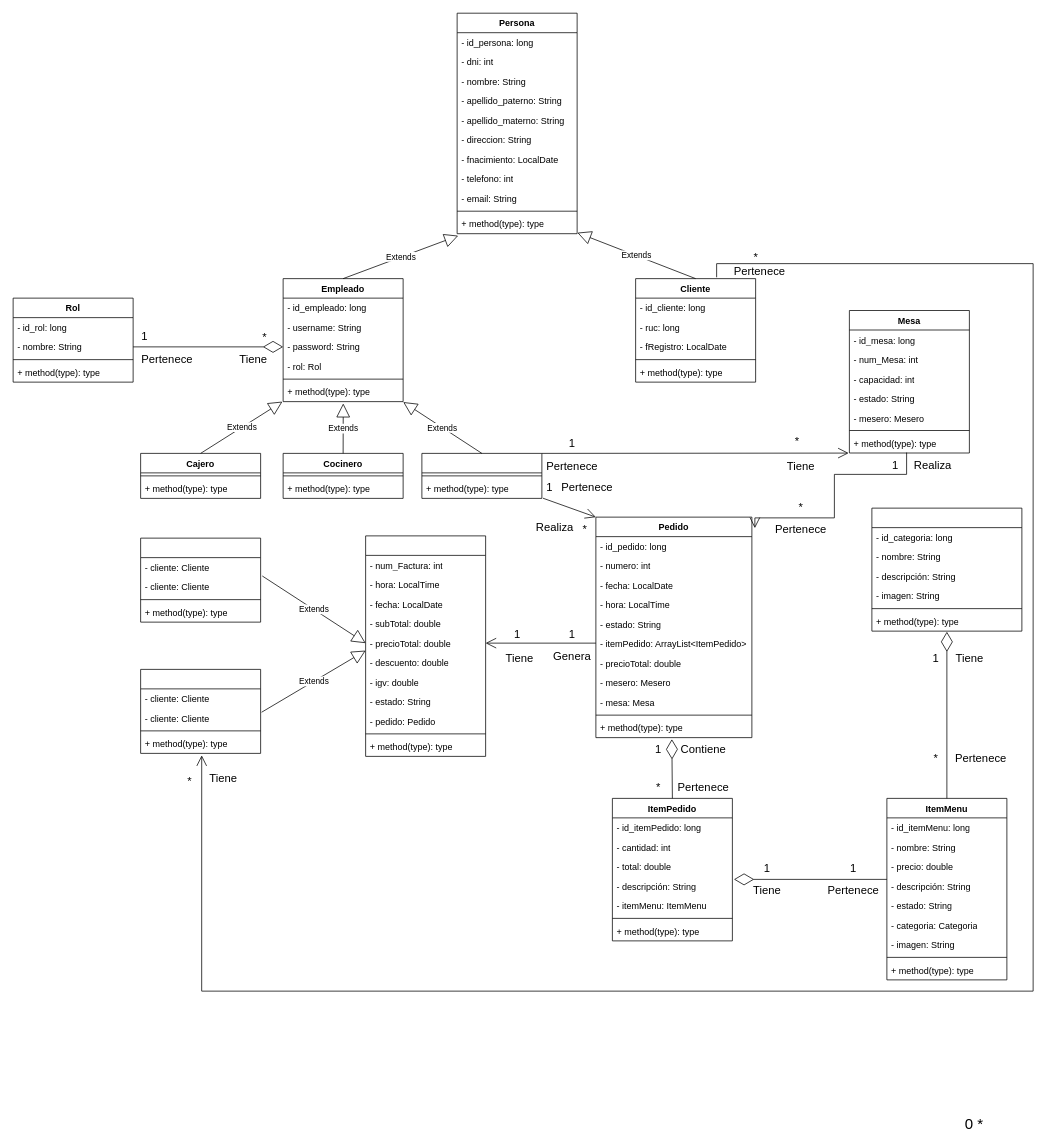
Image size: 1057x1145. Some labels were removed from this diagram. Each missing label, with the box of its shape:
Boleta: (140, 537, 261, 622)
Categoría: (871, 507, 1022, 631)
Cuenta: (365, 535, 486, 756)
Factura: (140, 669, 261, 753)
Mesero: (421, 453, 542, 498)
